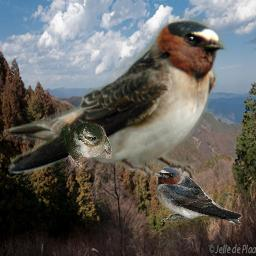Swallow: (3, 13, 233, 183), (152, 166, 243, 226), (54, 118, 112, 170)
